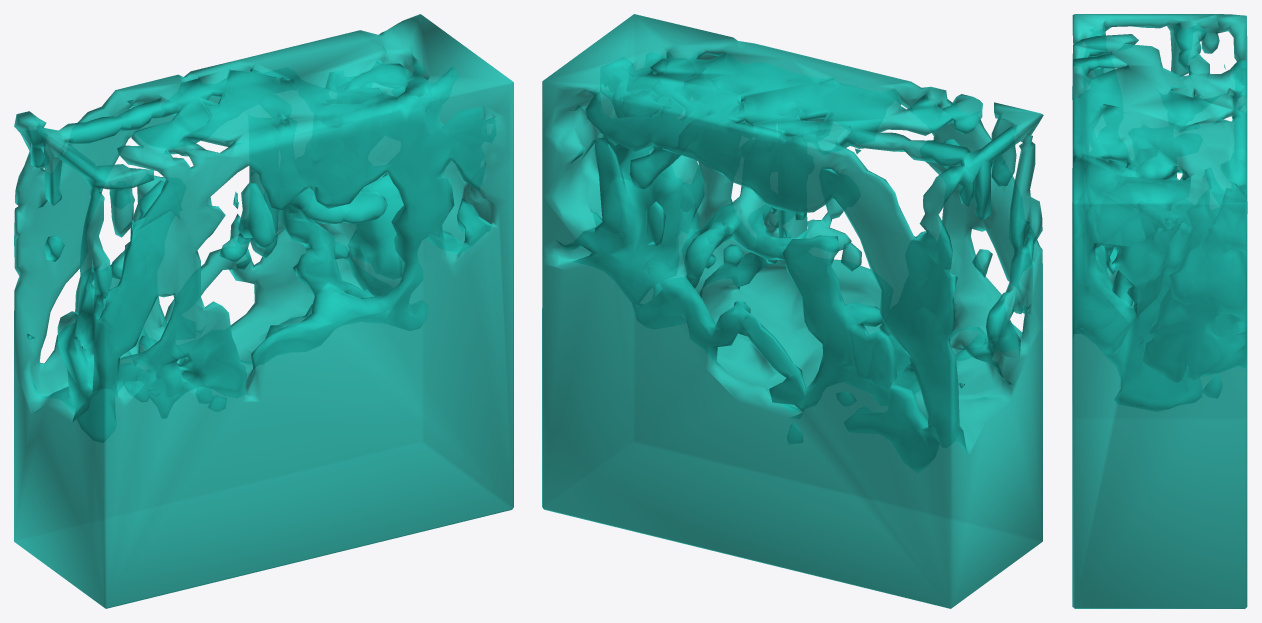
The picture shows the model from 3 angles, left to right: view 1: azimuth 30°, elevation 25°; view 2: azimuth 150°, elevation 25°; view 3: azimuth 270°, elevation 25°; orthographic projection. The views are drawn at different scales.
Parts seen in each view (by area): view 1: Liquid_Domain; view 2: Liquid_Domain; view 3: Liquid_Domain.
Part boxes in pixels (bbox=[...]): Liquid_Domain: bbox=[14, 14, 513, 608]; Liquid_Domain: bbox=[542, 14, 1043, 608]; Liquid_Domain: bbox=[1072, 14, 1247, 608].
Bounding box in the file's own units: 1966 × 1965 × 766.
